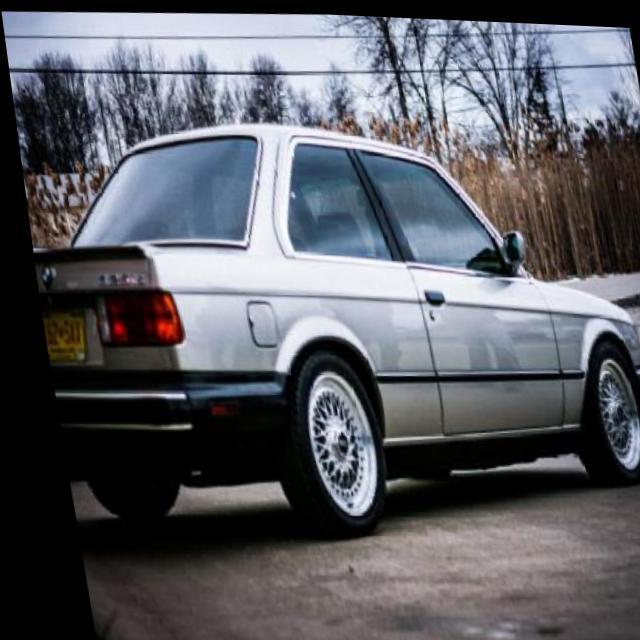license_plate: (32, 305, 79, 363)
